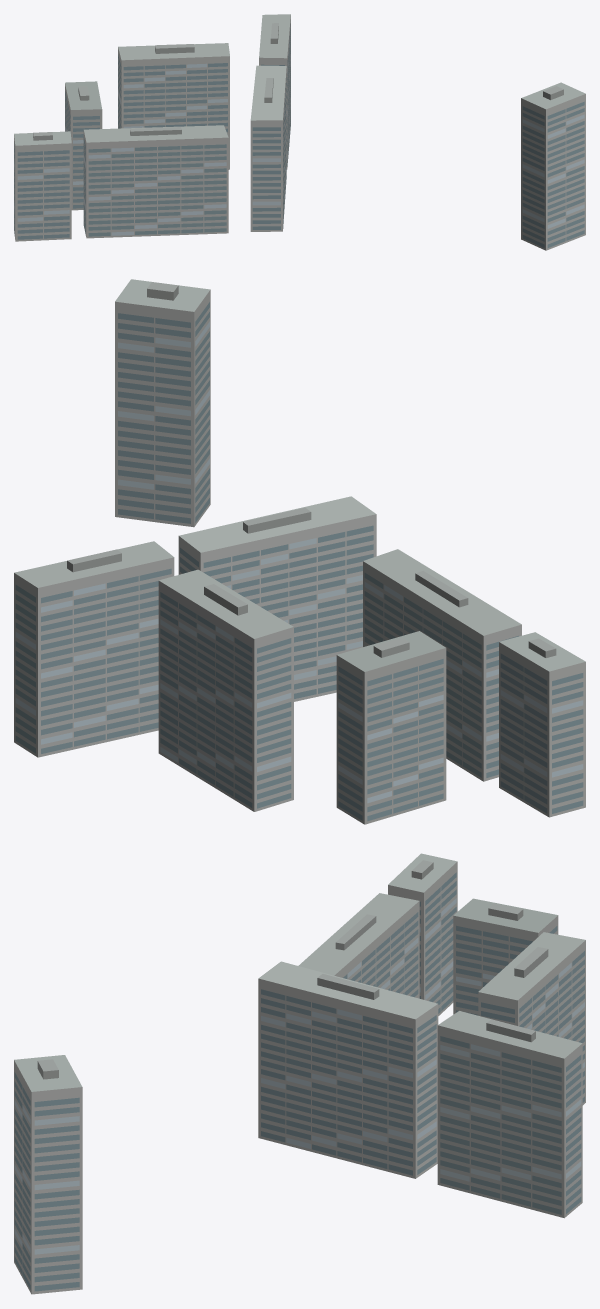
Rendered from apt-a13085902.glb.
The picture shows the model from 3 angles, top to bottom: view 1: azimuth 30°, elevation 25°; view 2: azimuth 150°, elevation 25°; view 3: azimuth 270°, elevation 25°; orthographic projection. The views are drawn at different scales.
Visible parts, largest first — view 1: apt-a13085902; view 2: apt-a13085902; view 3: apt-a13085902.
Part boxes in pixels (box(x1,y1,x2,y2)): apt-a13085902: box(14, 14, 585, 250); apt-a13085902: box(14, 279, 585, 824); apt-a13085902: box(14, 853, 585, 1294).
Bounding box in the file's own units: 195 × 63 × 155.
